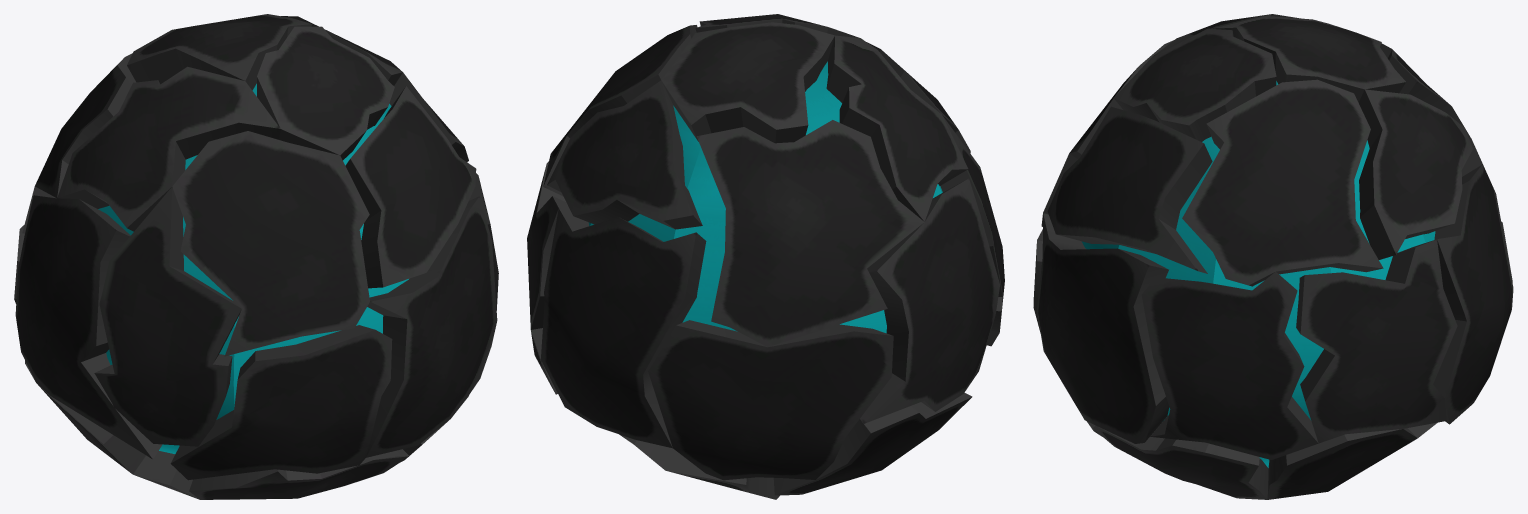
3 views of the same model, side by side, from view 1: azimuth 30°, elevation 25°; view 2: azimuth 150°, elevation 25°; view 3: azimuth 270°, elevation 25° (orthographic).
Parts seen in each view (by area): view 1: Tier161; view 2: Tier161; view 3: Tier161.
Boxes of the visible parts, x1=… form: Tier161: x1=14, y1=14, x2=498, y2=499; Tier161: x1=527, y1=14, x2=1004, y2=499; Tier161: x1=1033, y1=14, x2=1513, y2=499.
Size of the model in its own units: 0.001 by 0.001 by 0.001.
Materials: 1 (1 with a texture image).
